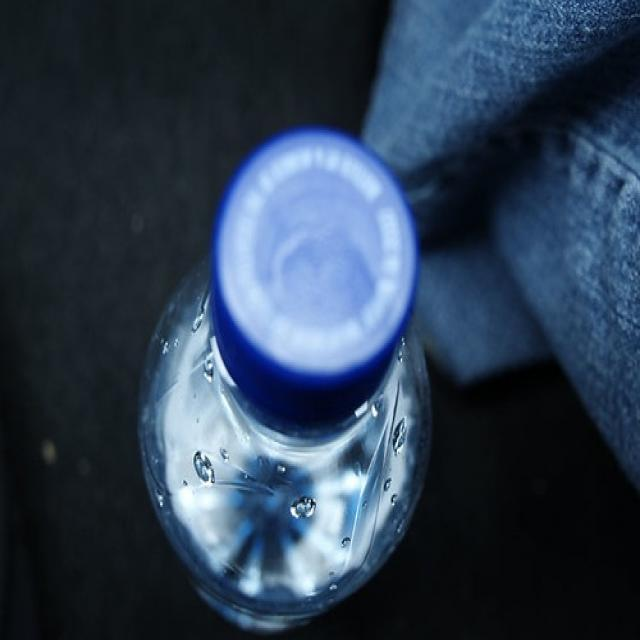plastic_bottle: (137, 124, 434, 631)
